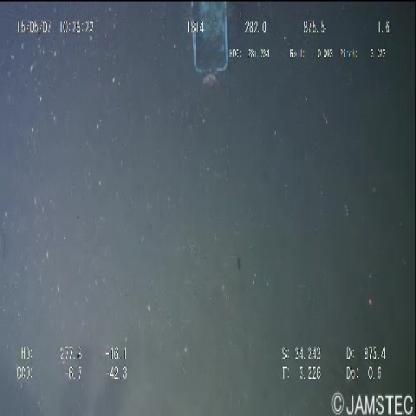Rác: (189, 1, 232, 84)
